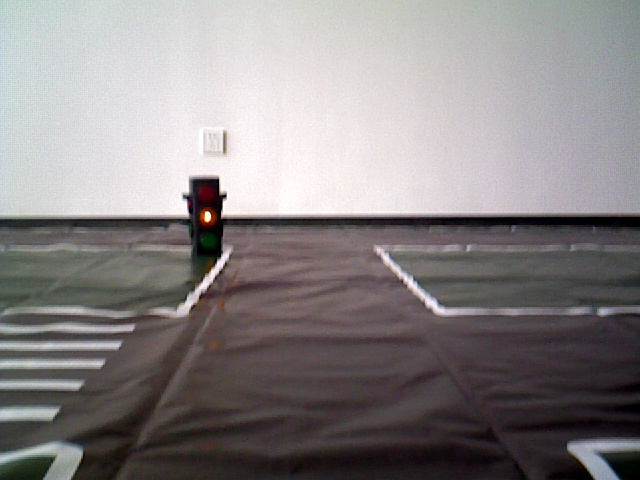yellow: (186, 177, 225, 257)
